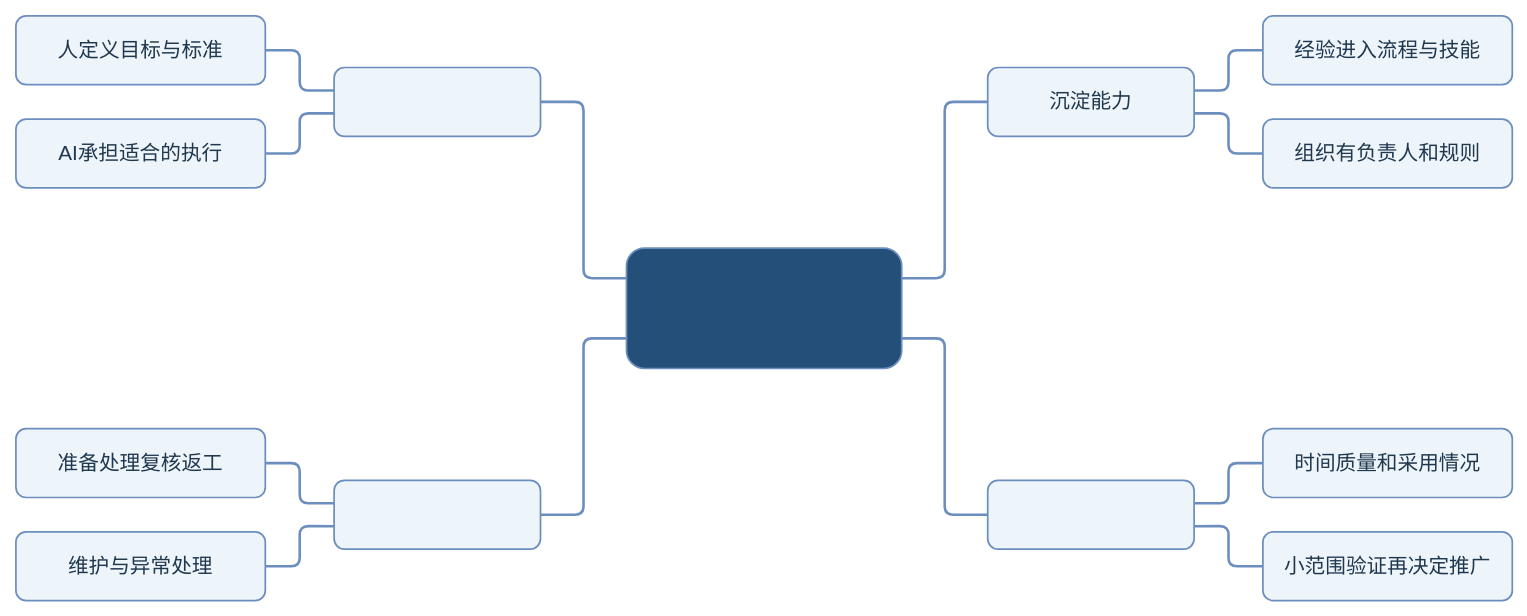
Some shapes in this 1527 by 616 pixel diagram are drawn without their labels. Each missing label, with the centre of its shape:
检验结果: (1090,514)
第15章 未来展望: (763,308)
衡量成本: (437,514)
重组分工: (437,101)
